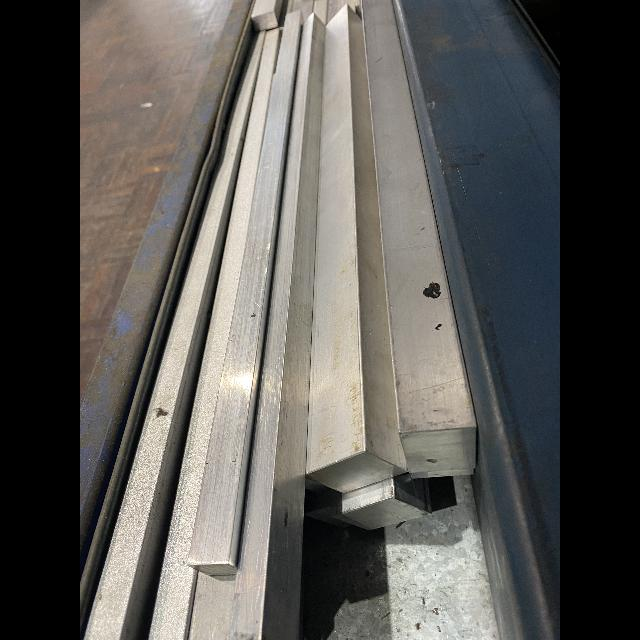Aluminium: (82, 32, 264, 639), (147, 29, 279, 639), (188, 9, 304, 575), (228, 13, 322, 640), (360, 1, 476, 475), (306, 3, 407, 494), (333, 472, 431, 532), (188, 575, 234, 640)
Ferrous Metal: (393, 0, 560, 640), (80, 2, 250, 571)
